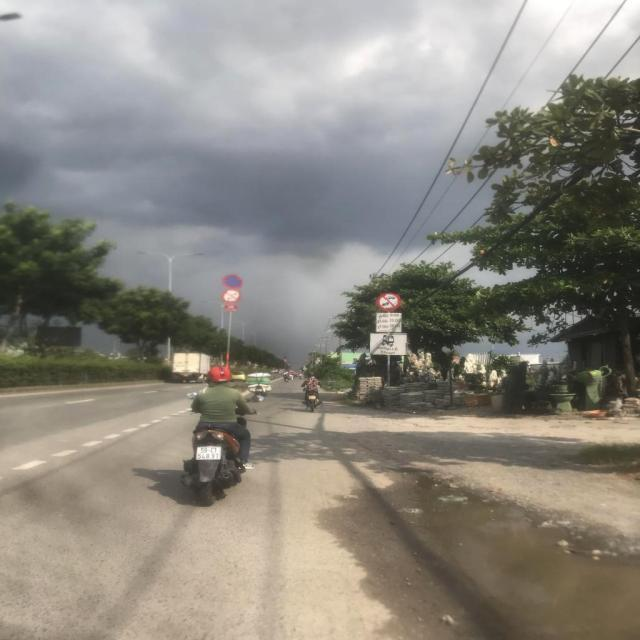107-cam-oto-khach-va-oto-tai: (374, 294, 400, 310)
